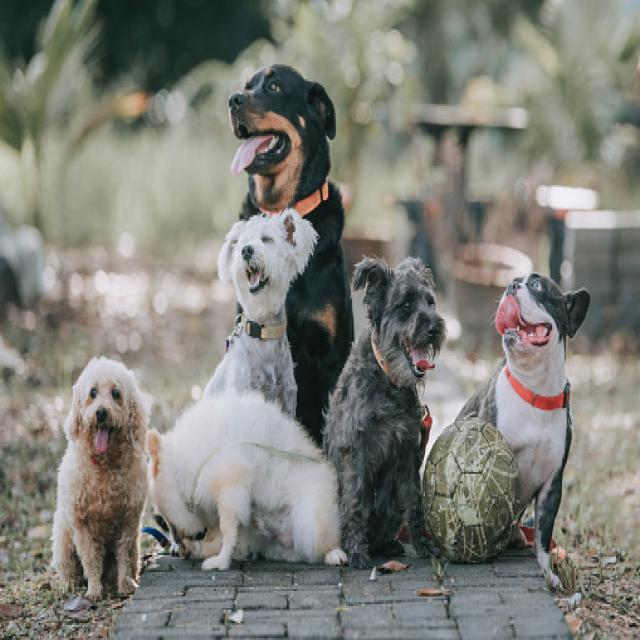rottweiler: (209, 48, 342, 194)
